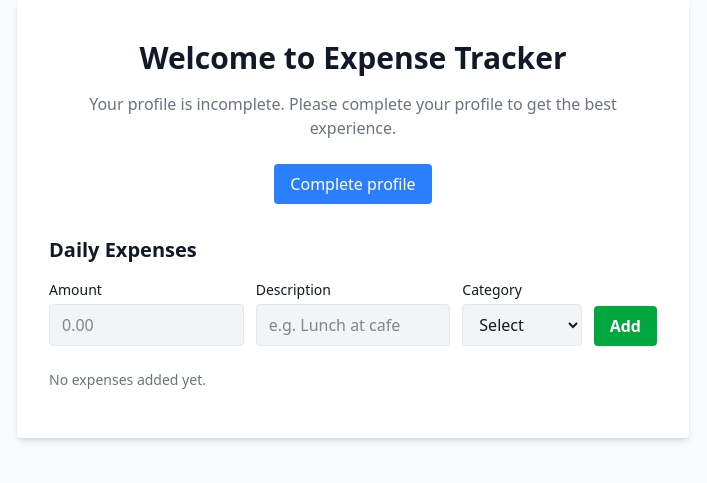
Home Component › shows validation errors for empty expense form
Click the button "Add" at (625, 326), box [594,306,657,346]
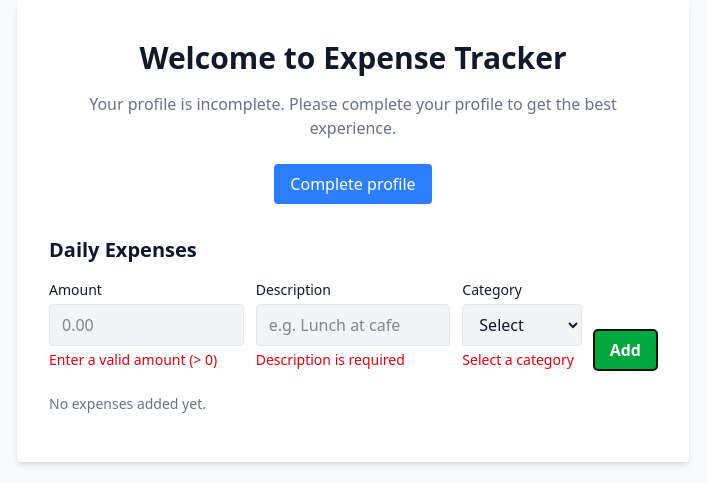
expect the text "Enter a valid amount (> 0)" is shown: met, box [49,350,244,370]
expect the text "Description is required" is shown: met, box [256,350,405,369]
expect the text "Select a category" is shown: met, box [462,350,582,370]
